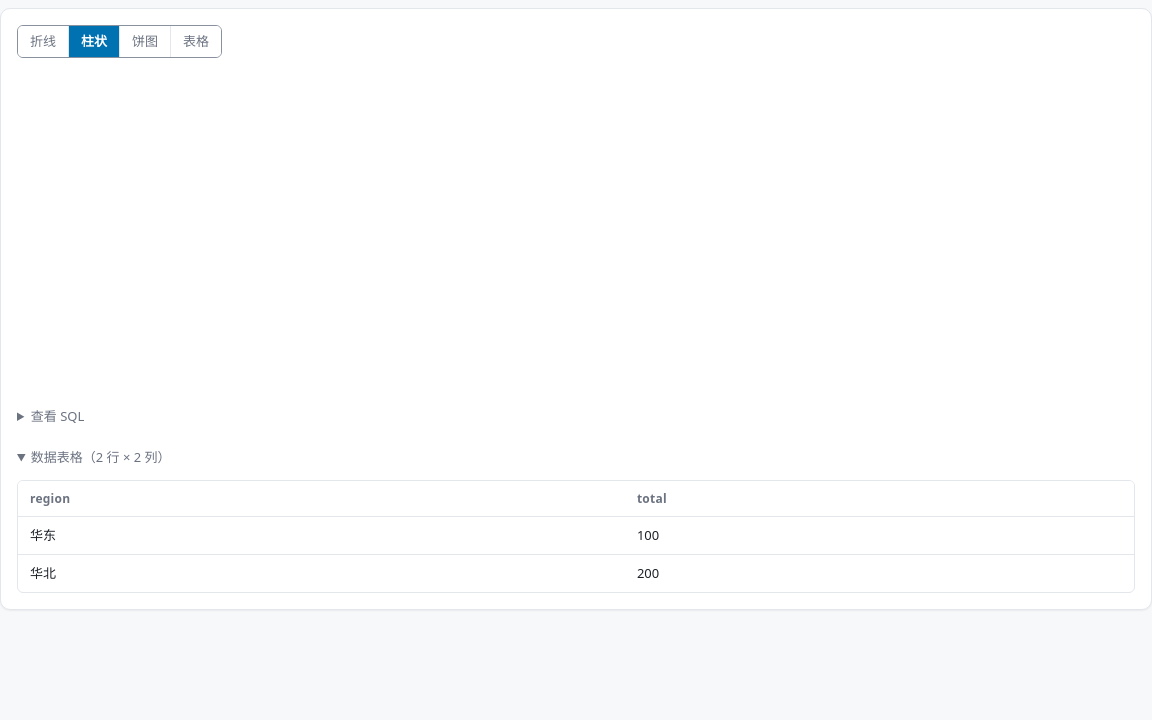
it: ResultCard 表格与切换 › 切到 table 时图表容器消失
Click the button "表格".
click(196, 42)  # box top-left (170, 26), bottom-right (221, 57)
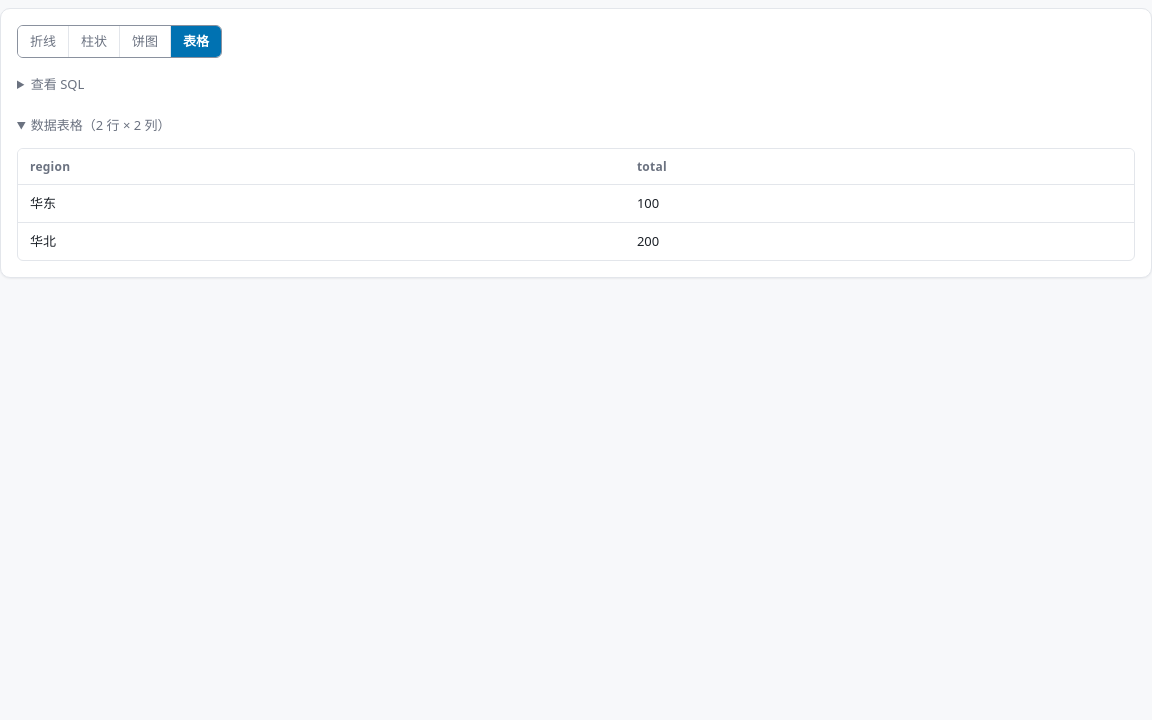
Expected: the element with test id "chart" is gone
